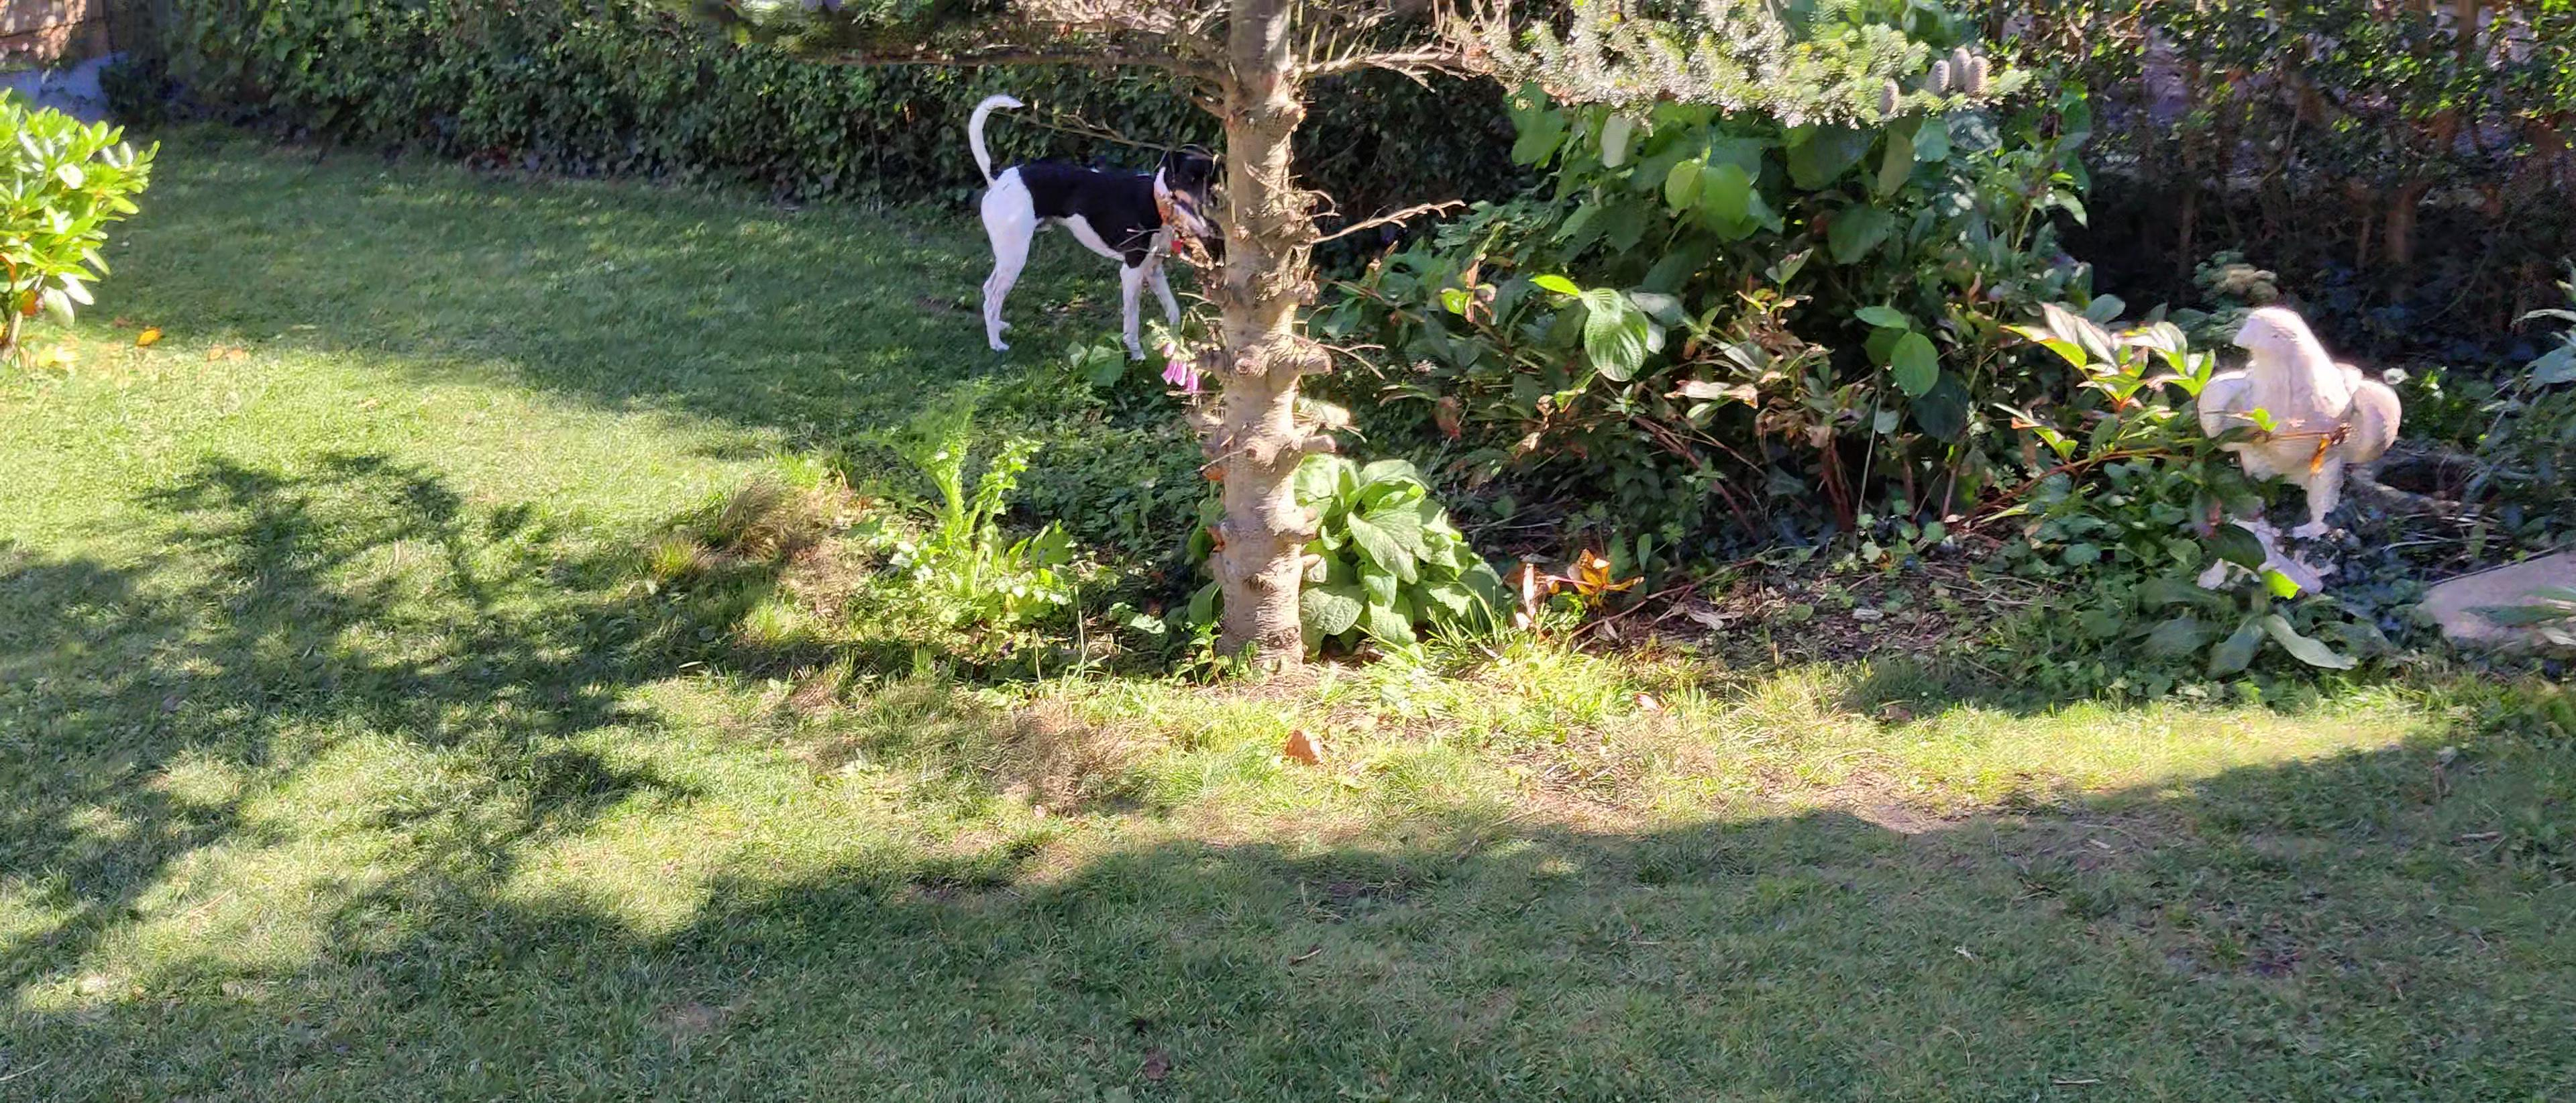Dog: (961, 87, 1235, 363)
